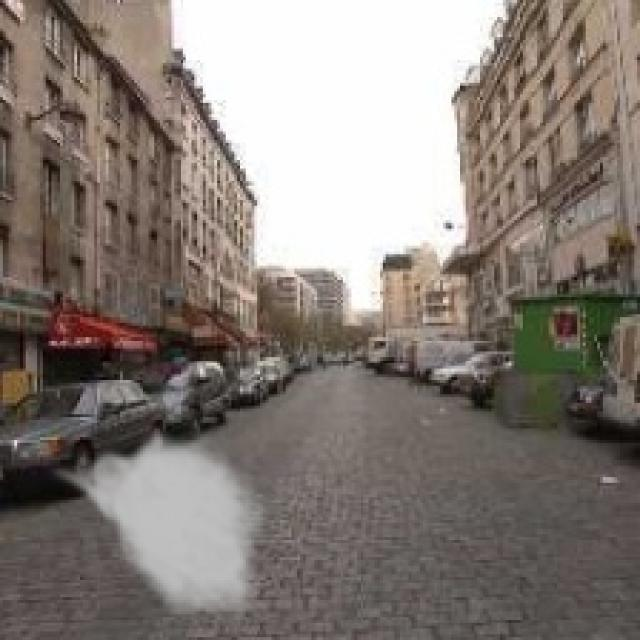Smoke: (45, 426, 268, 628)
